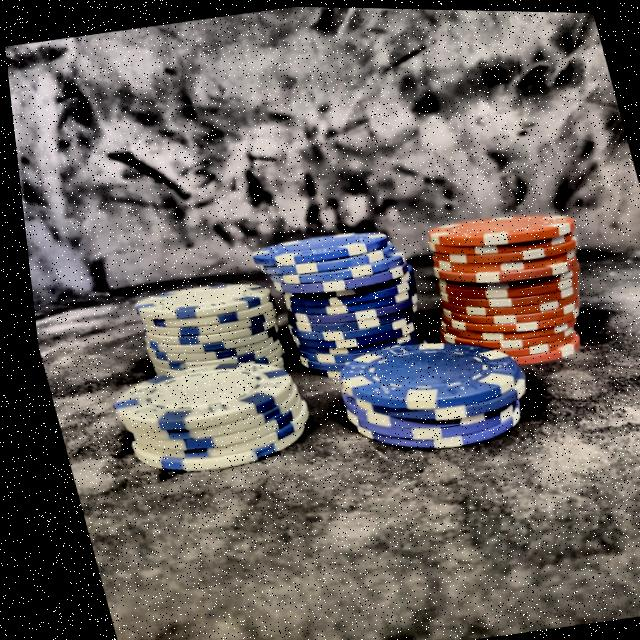Chip: (401, 172, 608, 391), (311, 304, 542, 475), (250, 209, 439, 388), (91, 345, 310, 488), (117, 259, 287, 395)
